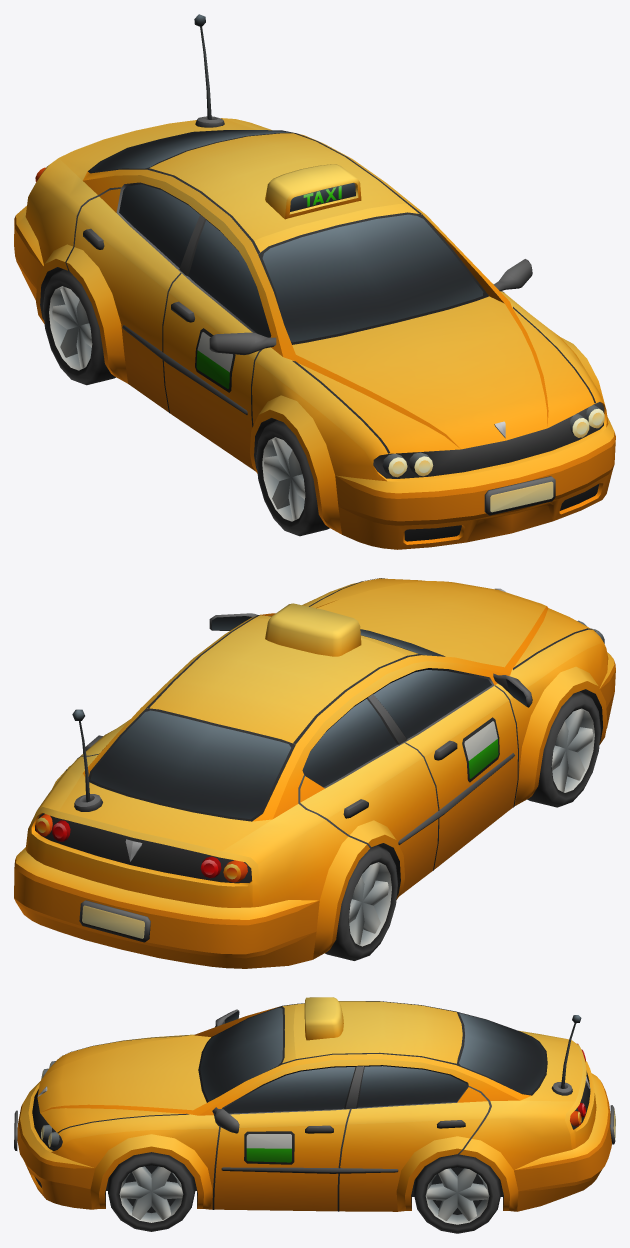
File: Car_14C.fbx
3 views of the same model, one above another, from view 1: azimuth 30°, elevation 25°; view 2: azimuth 150°, elevation 25°; view 3: azimuth 270°, elevation 25° (orthographic). The views are drawn at different scales.
Visible parts, largest first — view 1: Car_14C, Wheel_14C_F.R, Wheel_14C_R.R, Livery_14C; view 2: Car_14C, Wheel_14C_F.R, Wheel_14C_R.R, Livery_14C; view 3: Car_14C, Wheel_14C_F.L, Wheel_14C_R.L, Livery_14C.
Boxes of the visible parts, x1=… form: Car_14C: x1=14, y1=116, x2=615, y2=549; Wheel_14C_F.R: x1=256, y1=420, x2=329, y2=536; Wheel_14C_R.R: x1=43, y1=269, x2=115, y2=385; Livery_14C: x1=195, y1=186, x2=341, y2=392; Car_14C: x1=14, y1=578, x2=615, y2=968; Wheel_14C_F.R: x1=527, y1=691, x2=600, y2=807; Wheel_14C_R.R: x1=325, y1=845, x2=398, y2=960; Livery_14C: x1=462, y1=717, x2=499, y2=782; Car_14C: x1=14, y1=997, x2=615, y2=1211; Wheel_14C_F.L: x1=108, y1=1152, x2=195, y2=1231; Wheel_14C_R.L: x1=414, y1=1154, x2=501, y2=1233; Livery_14C: x1=244, y1=1131, x2=294, y2=1164.
Bounding box in the file's own units: 2.65 × 2.02 × 5.84.
